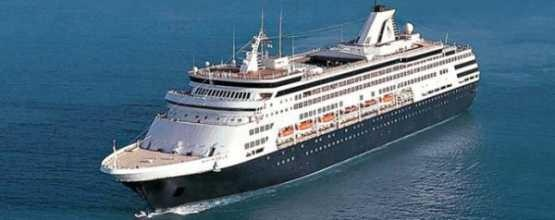youlun: (96, 7, 481, 211)
